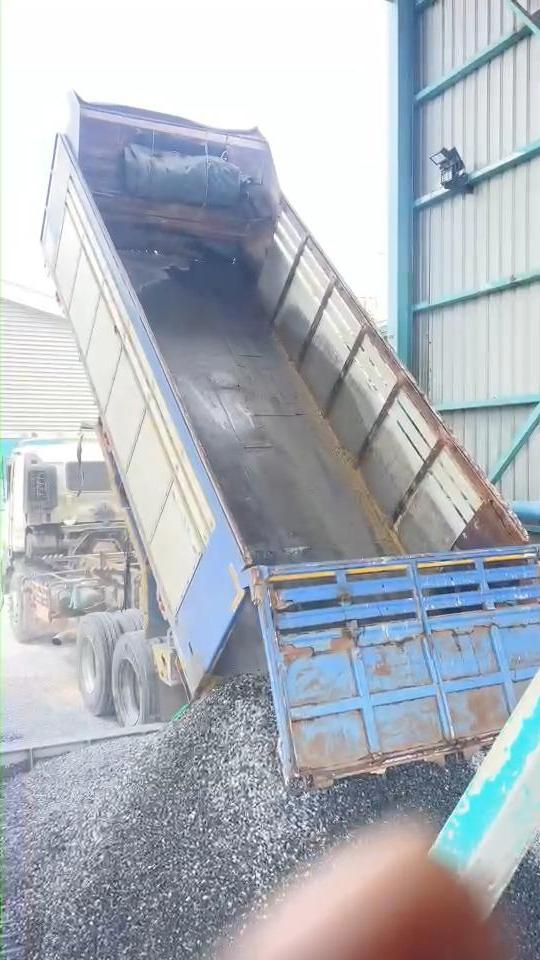gravel: (4, 677, 472, 959), (506, 857, 540, 957)
